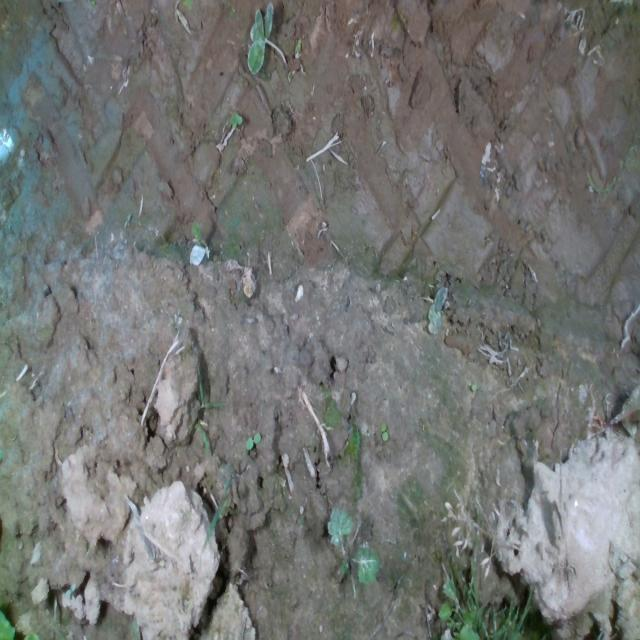weed: (245, 429, 261, 451), (380, 420, 388, 442)
